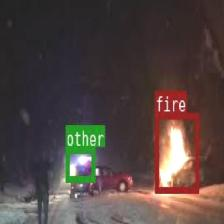fire: (154, 113, 198, 192)
